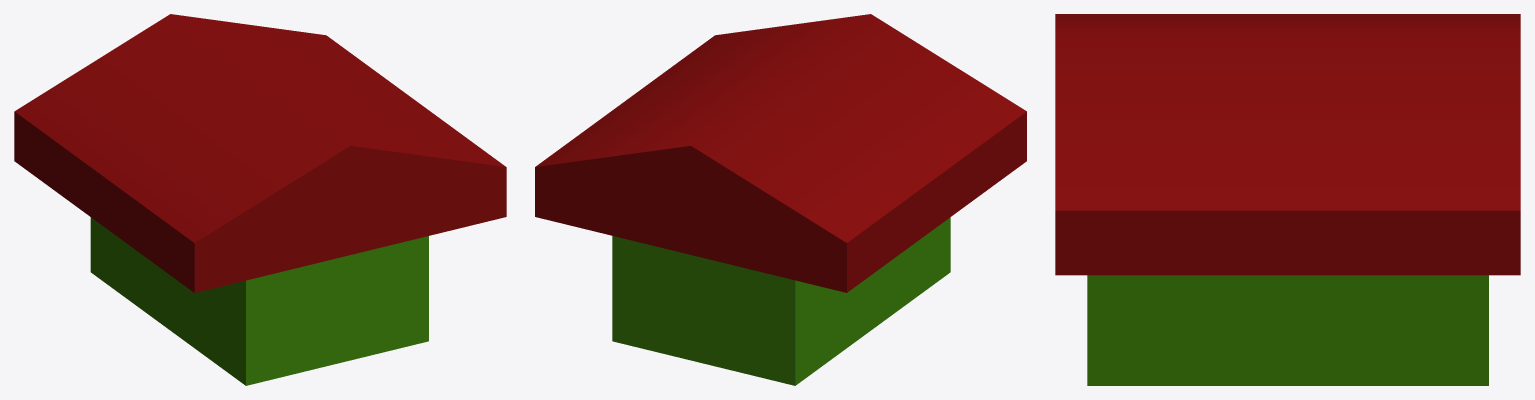
Rendered from Casa.obj.
3 views of the same model, side by side, from view 1: azimuth 30°, elevation 25°; view 2: azimuth 150°, elevation 25°; view 3: azimuth 270°, elevation 25° (orthographic). The views are drawn at different scales.
Visible parts, largest first — view 1: Box002, Box001; view 2: Box002, Box001; view 3: Box002, Box001.
Part boxes in pixels (x1=…): Box002: x1=14, y1=14, x2=506, y2=292; Box001: x1=90, y1=217, x2=428, y2=385; Box002: x1=535, y1=14, x2=1026, y2=292; Box001: x1=612, y1=217, x2=950, y2=385; Box002: x1=1055, y1=14, x2=1520, y2=275; Box001: x1=1087, y1=275, x2=1488, y2=385.
Bounding box in the file's own units: 53.67 × 37.28 × 53.67.
